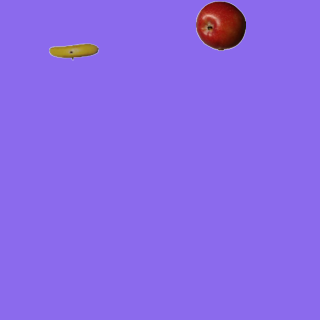Apple Braeburn: (195, 0, 245, 50)
Banana: (48, 26, 98, 76)
